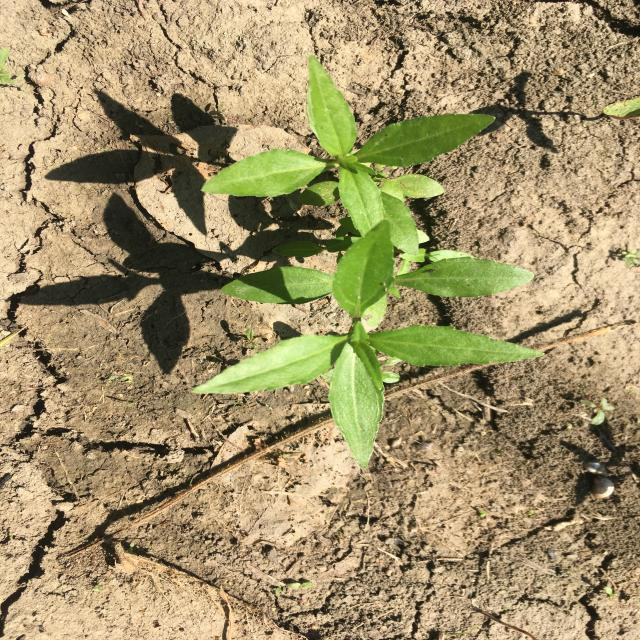Eclipta: (175, 218, 549, 472), (199, 51, 498, 258)
